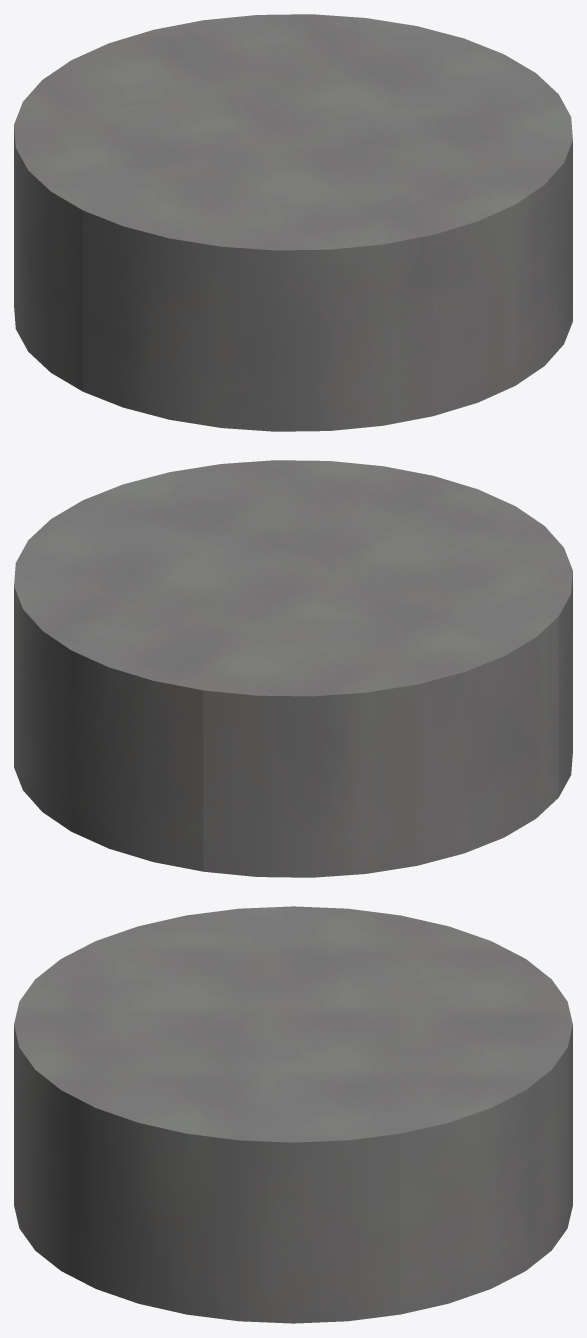
Rendered from frame__selector_hole_0.glb.
The picture shows the model from 3 angles, top to bottom: view 1: azimuth 30°, elevation 25°; view 2: azimuth 150°, elevation 25°; view 3: azimuth 270°, elevation 25°; orthographic projection.
Parts seen in each view (by area): view 1: world; view 2: world; view 3: world.
Boxes of the visible parts, left/top/right/bottom form: world: left=14, top=14, right=572, bottom=431; world: left=14, top=460, right=572, bottom=877; world: left=14, top=906, right=572, bottom=1323.
Bounding box in the file's own units: 0.028 × 0.01 × 0.028.
1 material, 1 textured.
